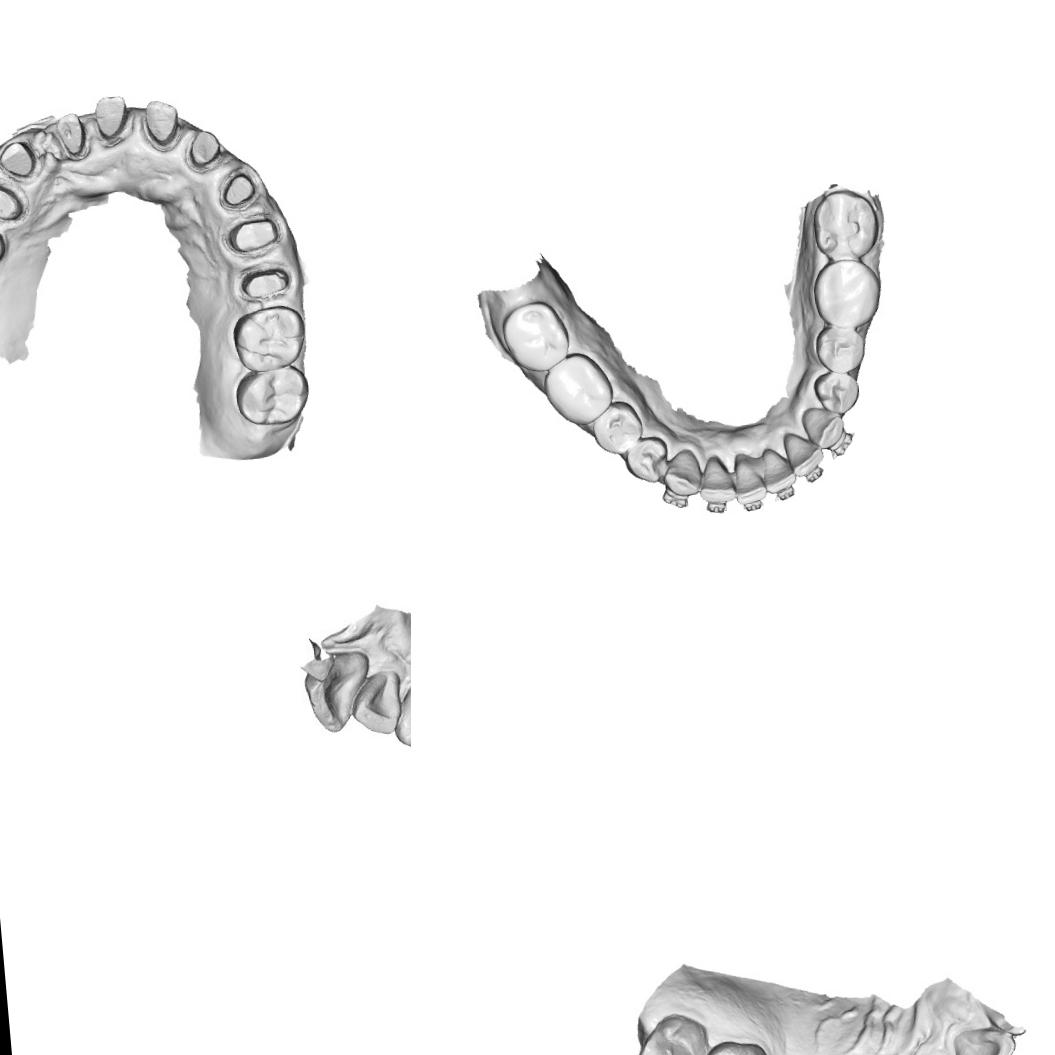canine: (658, 445, 703, 502), (800, 402, 848, 451), (390, 678, 411, 755)
crown: (136, 95, 186, 151), (220, 212, 282, 256), (90, 92, 134, 145), (51, 109, 93, 164), (235, 264, 293, 302), (182, 126, 225, 174), (215, 167, 260, 212), (0, 135, 39, 181), (0, 175, 26, 225)
incisor: (297, 652, 370, 733), (352, 668, 400, 730), (779, 426, 826, 479), (694, 452, 735, 506), (759, 442, 798, 495), (951, 1025, 1019, 1055), (730, 455, 768, 506)
molar: (539, 348, 618, 430), (497, 296, 573, 376), (228, 301, 309, 374), (808, 255, 884, 329), (809, 186, 882, 262), (232, 364, 312, 428), (631, 1010, 712, 1055), (696, 1036, 773, 1055)
premolar: (590, 397, 647, 458), (810, 322, 870, 375), (621, 432, 672, 486), (810, 367, 862, 416)
